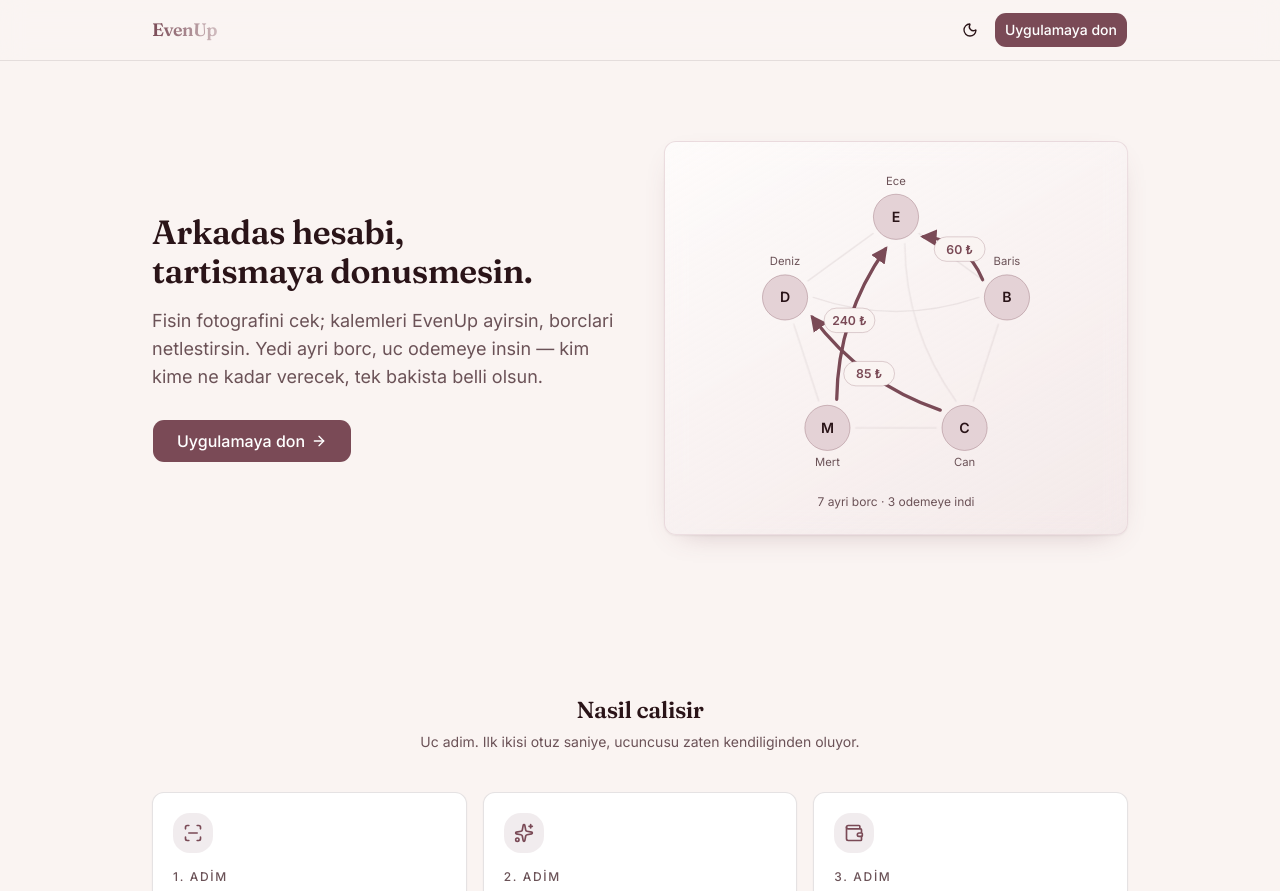
giris yapmis kullanici › landing uzerinden uygulamaya donulebilir
Click the 1st link "Uygulamaya don".
click(1061, 30)  # box 994,12 -> 1128,48
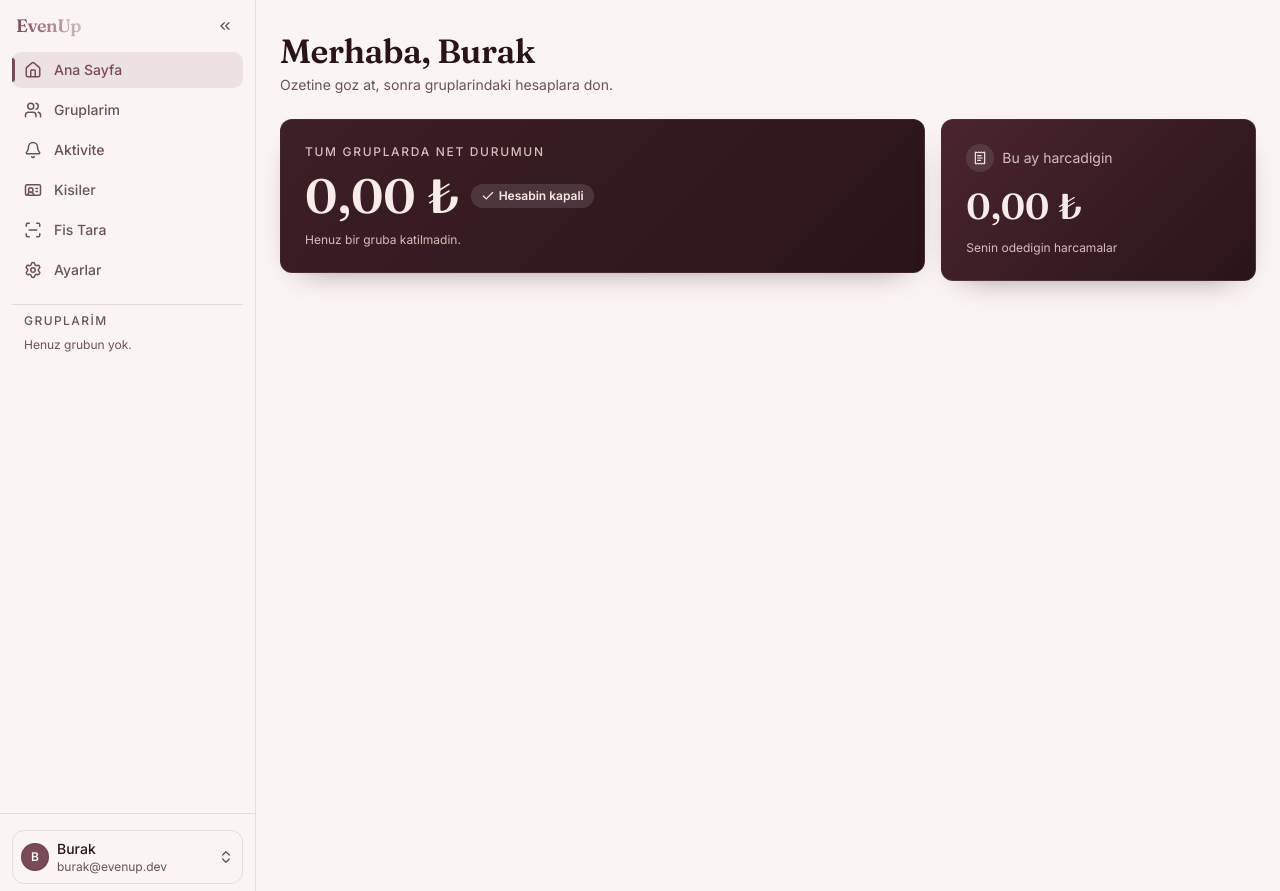
expect the heading "Merhaba, Burak" is shown: met, box 280,30 -> 535,72
